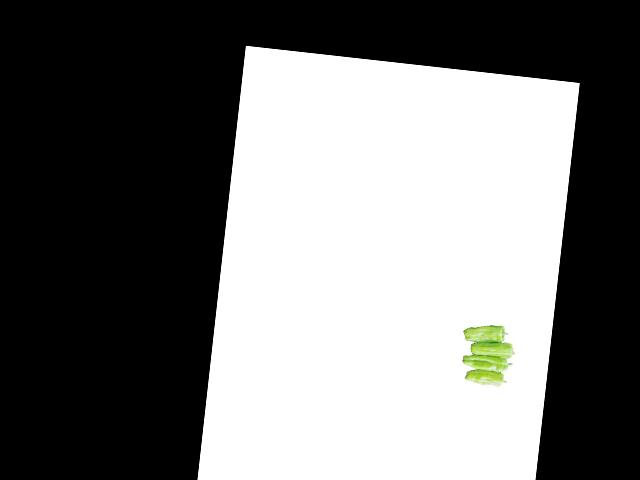bell_pepper: (458, 321, 511, 346)
